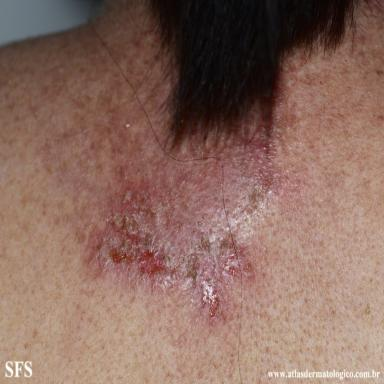Darier_s-Disease: (78, 66, 301, 336)
